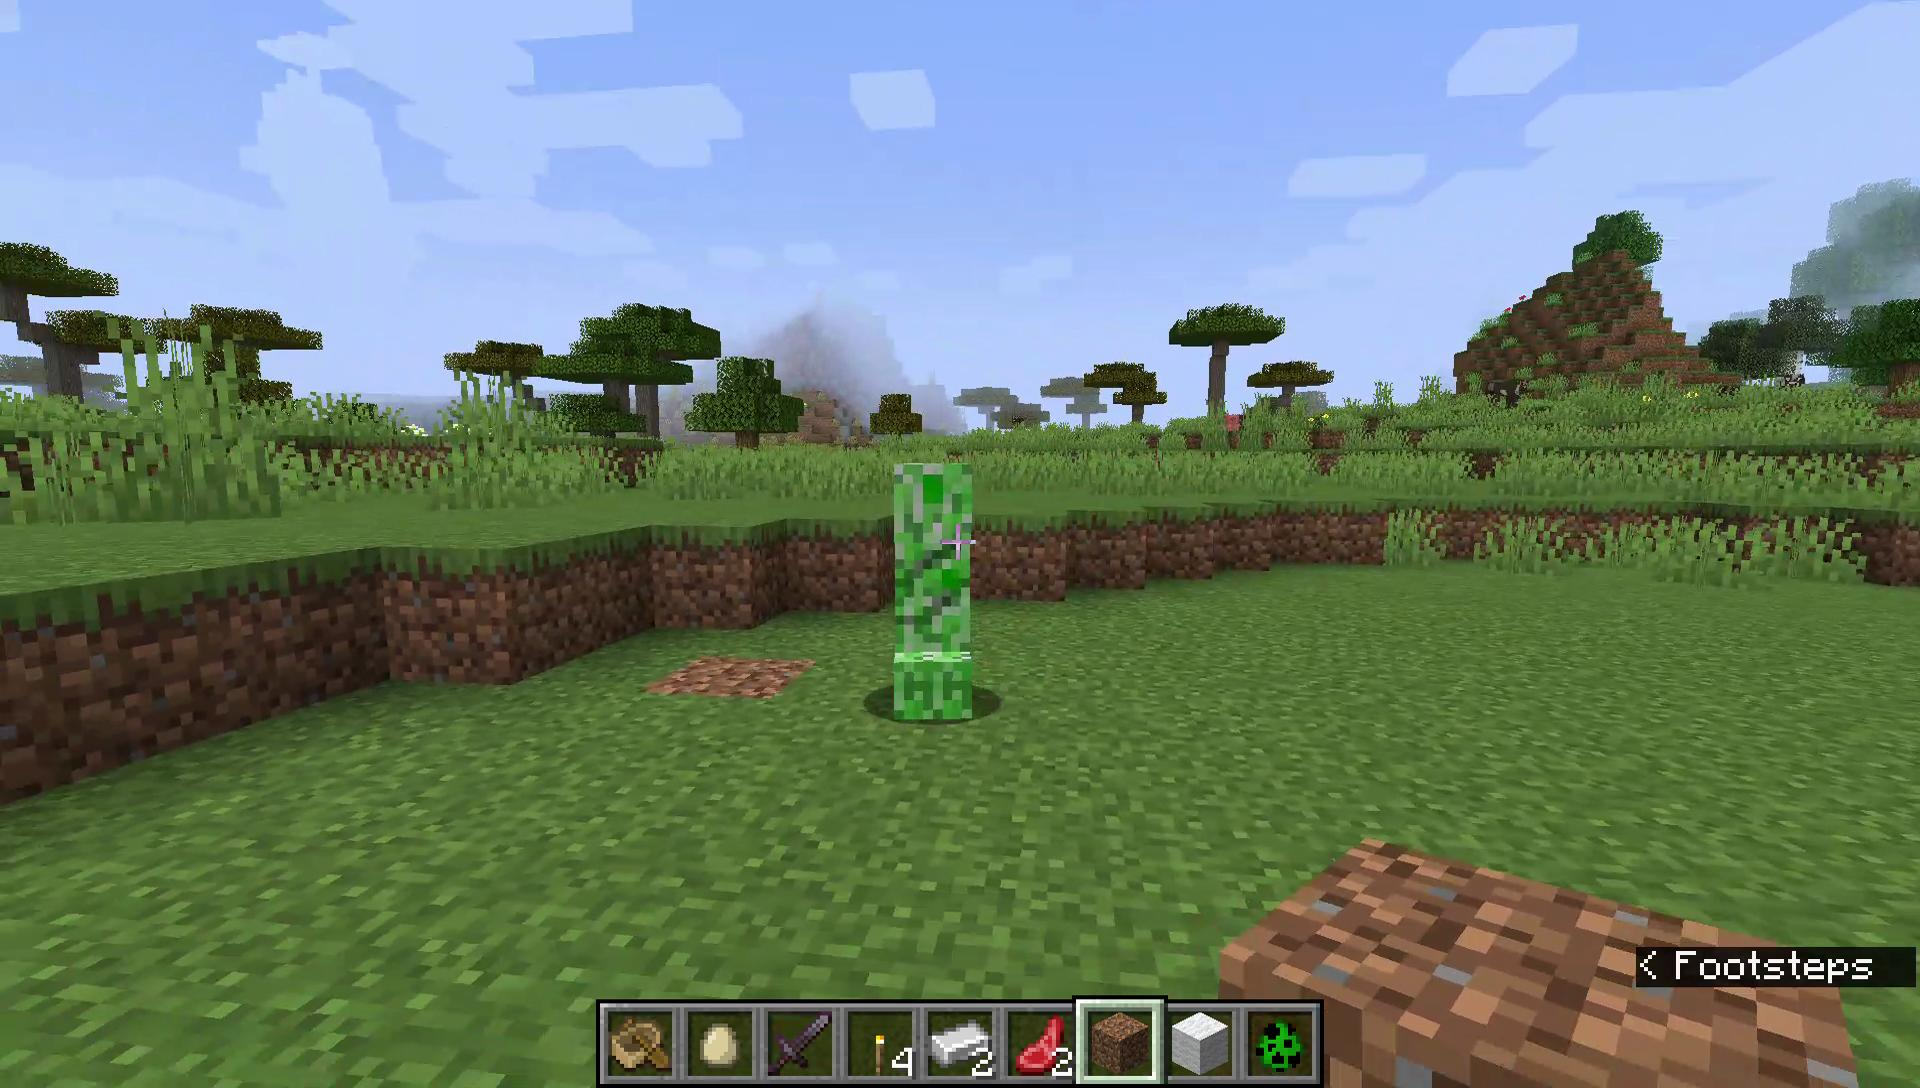cow: (1486, 376, 1528, 411)
creeper: (889, 452, 978, 731)
pig: (1222, 413, 1240, 433)
